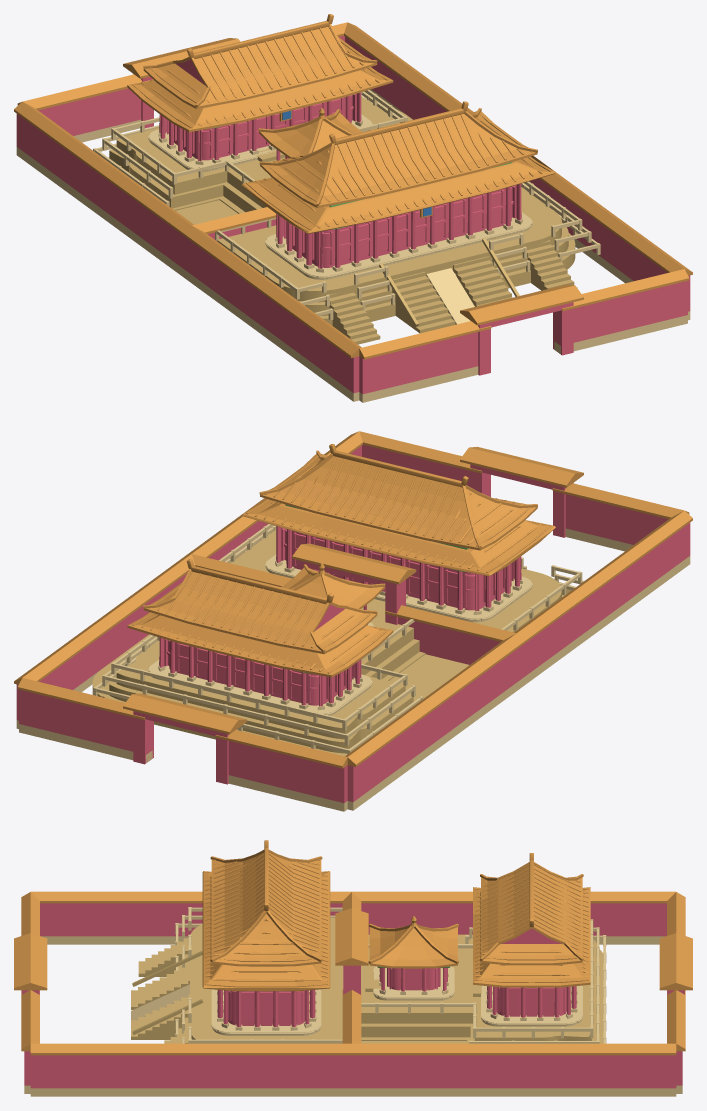
3 views of the same model, one above another, from view 1: azimuth 30°, elevation 25°; view 2: azimuth 150°, elevation 25°; view 3: azimuth 270°, elevation 25° (orthographic). The views are drawn at different scales.
Visible parts, largest first — view 1: Taihe_C2_Upper_Wudian_Roof, Shared_C3_Terrace_Cornices, Baohe_C2_Upper_Xieshan_Roof, Taihe_C3_Stairs, Taihe_C2_Lower_Eave_Roof, FC_WALL_first_west_red, FC_WALL_second_west_red, Baohe_C2_Lower_Eave_Roof, FC_WALL_front_east_red, FC_WALL_front_west_red, Shared_C3_Balustrades_Tier_3, Taihe_C2_Upper_Wudian_Roof__RoofTileRelief (+47 smaller); view 2: Taihe_C2_Upper_Wudian_Roof, Shared_C3_Terrace_Cornices, Baohe_C2_Upper_Xieshan_Roof, Taihe_C2_Lower_Eave_Roof, FC_WALL_second_west_red, FC_WALL_first_west_red, Baohe_C2_Lower_Eave_Roof, FC_WALL_back_east_red, FC_WALL_back_west_red, Shared_C3_Balustrades_Tier_3, Taihe_C2_Upper_Wudian_Roof__RoofTileRelief, FC_WALL_second_west_tile (+50 smaller); view 3: FC_WALL_second_east_red, FC_WALL_first_east_red, Shared_C3_Terrace_Cornices, Taihe_C2_Upper_Wudian_Roof, Baohe_C2_Upper_Xieshan_Roof, FC_WALL_first_west_red, Taihe_C2_Upper_Wudian_Roof__RoofTileRelief, FC_WALL_second_west_red, Taihe_C2_Lower_Eave_Roof, FC_WALL_second_east_tile, FC_WALL_first_east_tile, Taihe_C3_Stairs (+41 smaller).
Part boxes in pixels (x1=…): Taihe_C2_Upper_Wudian_Roof: x1=260, y1=111, x2=537, y2=207; Shared_C3_Terrace_Cornices: x1=108, y1=97, x2=575, y2=320; Baohe_C2_Upper_Xieshan_Roof: x1=143, y1=26, x2=377, y2=108; Taihe_C3_Stairs: x1=326, y1=240, x2=577, y2=344; Taihe_C2_Lower_Eave_Roof: x1=242, y1=156, x2=555, y2=233; FC_WALL_first_west_red: x1=186, y1=237, x2=359, y2=393; FC_WALL_second_west_red: x1=16, y1=114, x2=185, y2=270; Baohe_C2_Lower_Eave_Roof: x1=127, y1=67, x2=393, y2=132; FC_WALL_front_east_red: x1=554, y1=281, x2=687, y2=345; FC_WALL_front_west_red: x1=359, y1=332, x2=478, y2=394; Shared_C3_Balustrades_Tier_3: x1=111, y1=90, x2=582, y2=299; Taihe_C2_Upper_Wudian_Roof__RoofTileRelief: x1=267, y1=111, x2=532, y2=203; Taihe_C2_Upper_Wudian_Roof: x1=260, y1=454, x2=537, y2=550; Shared_C3_Terrace_Cornices: x1=102, y1=528, x2=564, y2=756; Baohe_C2_Upper_Xieshan_Roof: x1=143, y1=572, x2=377, y2=654; Taihe_C2_Lower_Eave_Roof: x1=242, y1=498, x2=555, y2=576; FC_WALL_second_west_red: x1=347, y1=645, x2=522, y2=801; FC_WALL_first_west_red: x1=522, y1=523, x2=690, y2=677; Baohe_C2_Lower_Eave_Roof: x1=127, y1=612, x2=393, y2=677; FC_WALL_back_east_red: x1=19, y1=689, x2=152, y2=754; FC_WALL_back_west_red: x1=228, y1=741, x2=347, y2=802; Shared_C3_Balustrades_Tier_3: x1=111, y1=524, x2=582, y2=730; Taihe_C2_Upper_Wudian_Roof__RoofTileRelief: x1=264, y1=453, x2=530, y2=546; FC_WALL_second_west_tile: x1=345, y1=633, x2=525, y2=766; FC_WALL_second_east_red: x1=352, y1=1055, x2=676, y2=1088; FC_WALL_first_east_red: x1=30, y1=1055, x2=351, y2=1088; Shared_C3_Terrace_Cornices: x1=178, y1=917, x2=603, y2=1043; Taihe_C2_Upper_Wudian_Roof: x1=211, y1=852, x2=321, y2=966; Baohe_C2_Upper_Xieshan_Roof: x1=481, y1=865, x2=582, y2=965; FC_WALL_first_west_red: x1=40, y1=903, x2=342, y2=936; Taihe_C2_Upper_Wudian_Roof__RoofTileRelief: x1=213, y1=853, x2=319, y2=961; FC_WALL_second_west_red: x1=361, y1=903, x2=666, y2=936; Taihe_C2_Lower_Eave_Roof: x1=202, y1=871, x2=330, y2=991; FC_WALL_second_east_tile: x1=352, y1=1043, x2=676, y2=1055; FC_WALL_first_east_tile: x1=30, y1=1043, x2=351, y2=1055; Taihe_C3_Stairs: x1=131, y1=938, x2=191, y2=1043.
Size of the model in its own units: 3.85 by 1.65 by 6.91.
